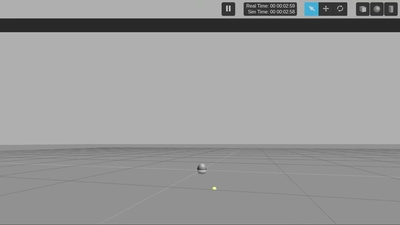mira_robot: (198, 163, 206, 173)
